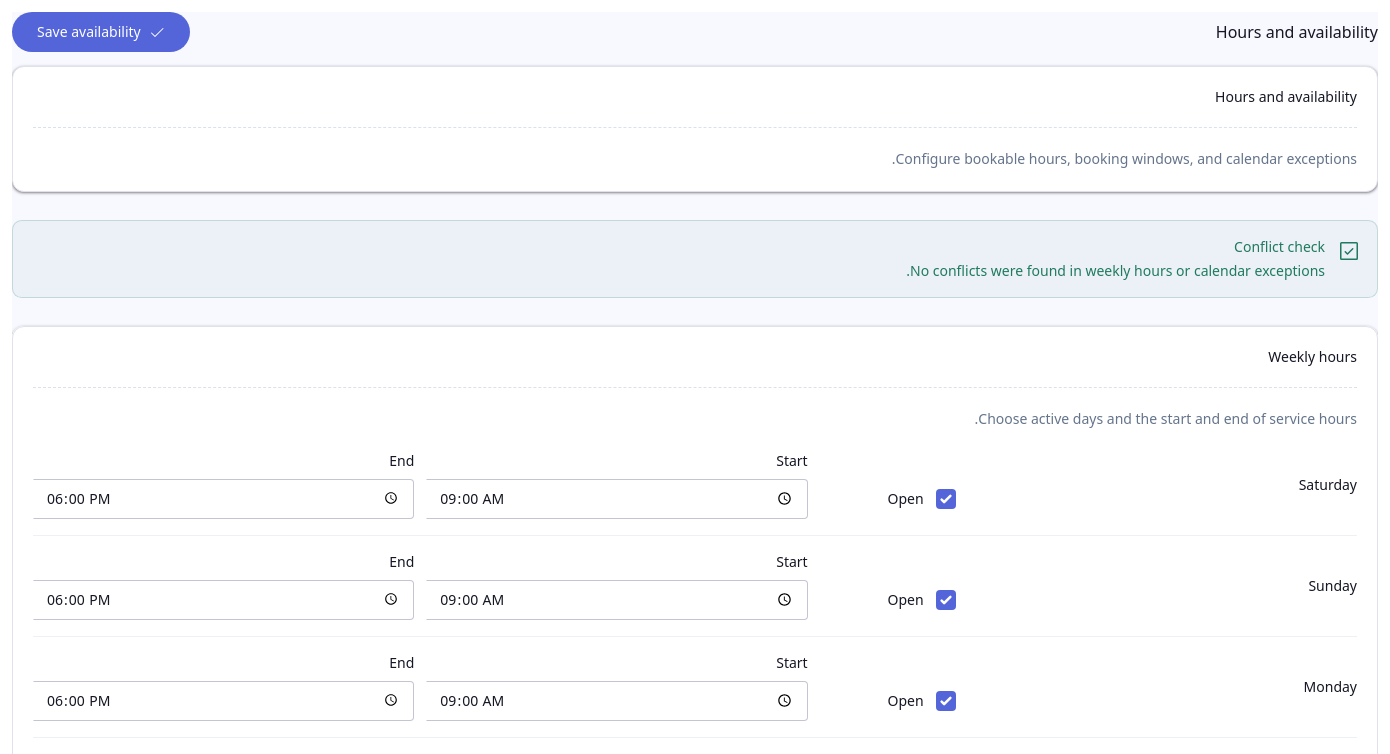
Test: AvailabilityPage › blocks saving on invalid hours and announces a successful save
Expected: the button "Save availability" is enabled, [12, 12, 190, 52]
Replace the text in the time field labelled "Start" in the row of "Saturday" with "18:00" at x=617, y=498, box [426, 478, 808, 518]
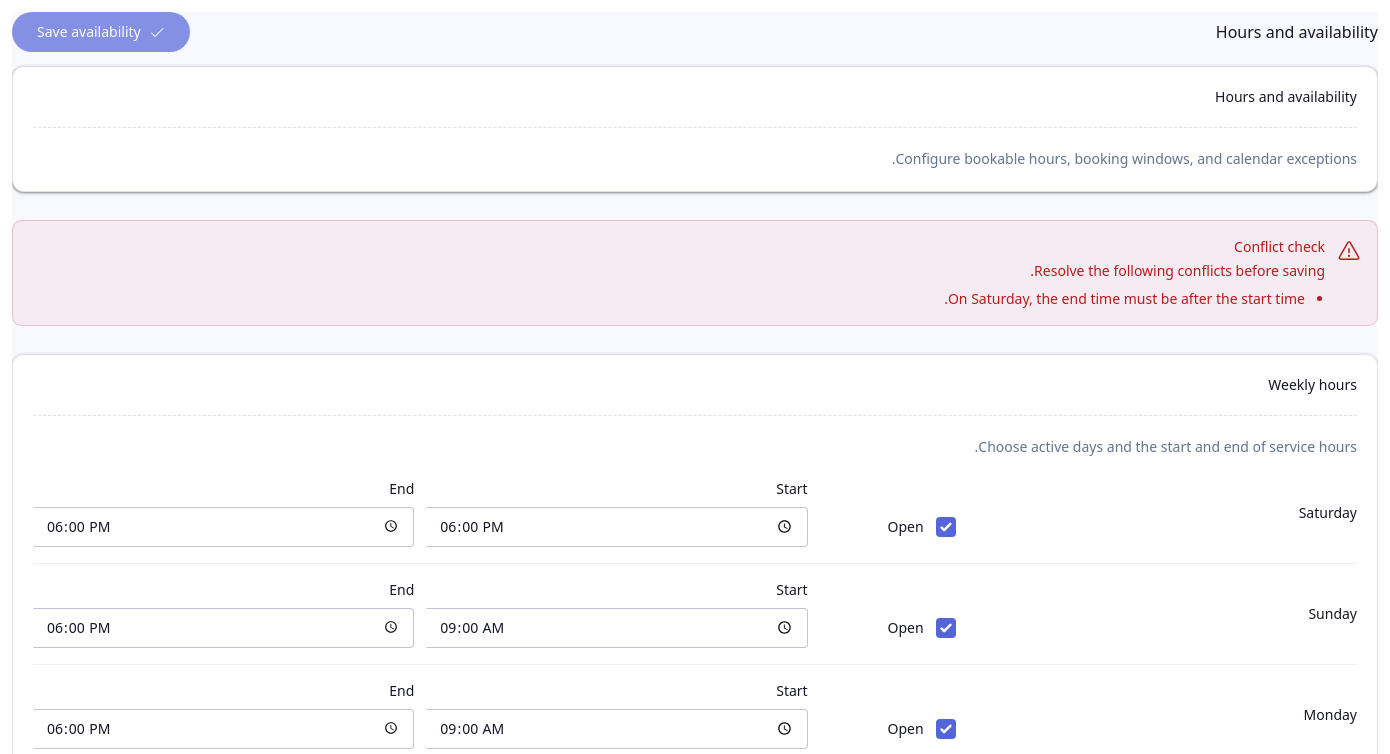
Replace the text in the 1st time field labelled "End" with "09:00" at x=224, y=526, box [33, 506, 414, 546]
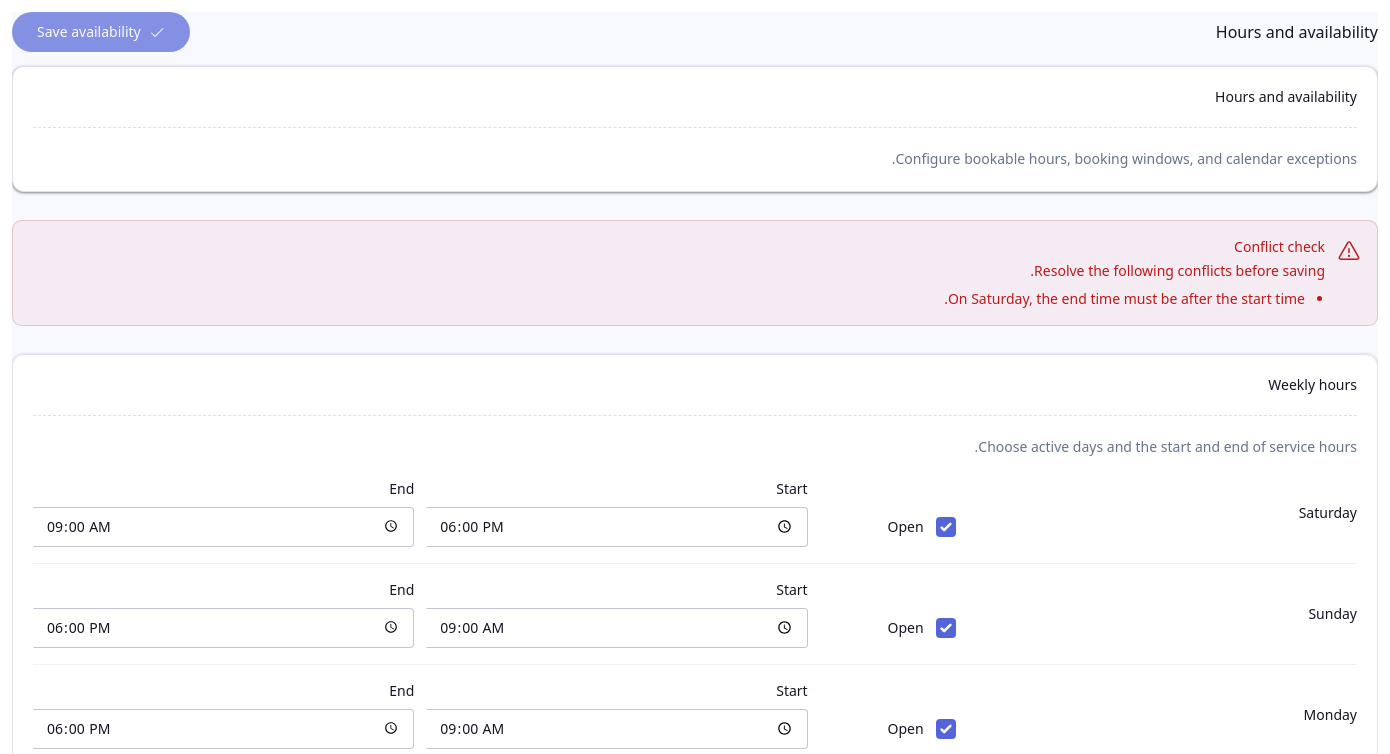
Result: the button "Save availability" is disabled at [12, 12, 190, 52]
Result: the message shows "On Saturday, the end time must be after the start time." at [944, 289, 1305, 308]
Replace the text in the 1st time field labelled "End" with "19:00" at x=224, y=526, box [33, 506, 414, 546]
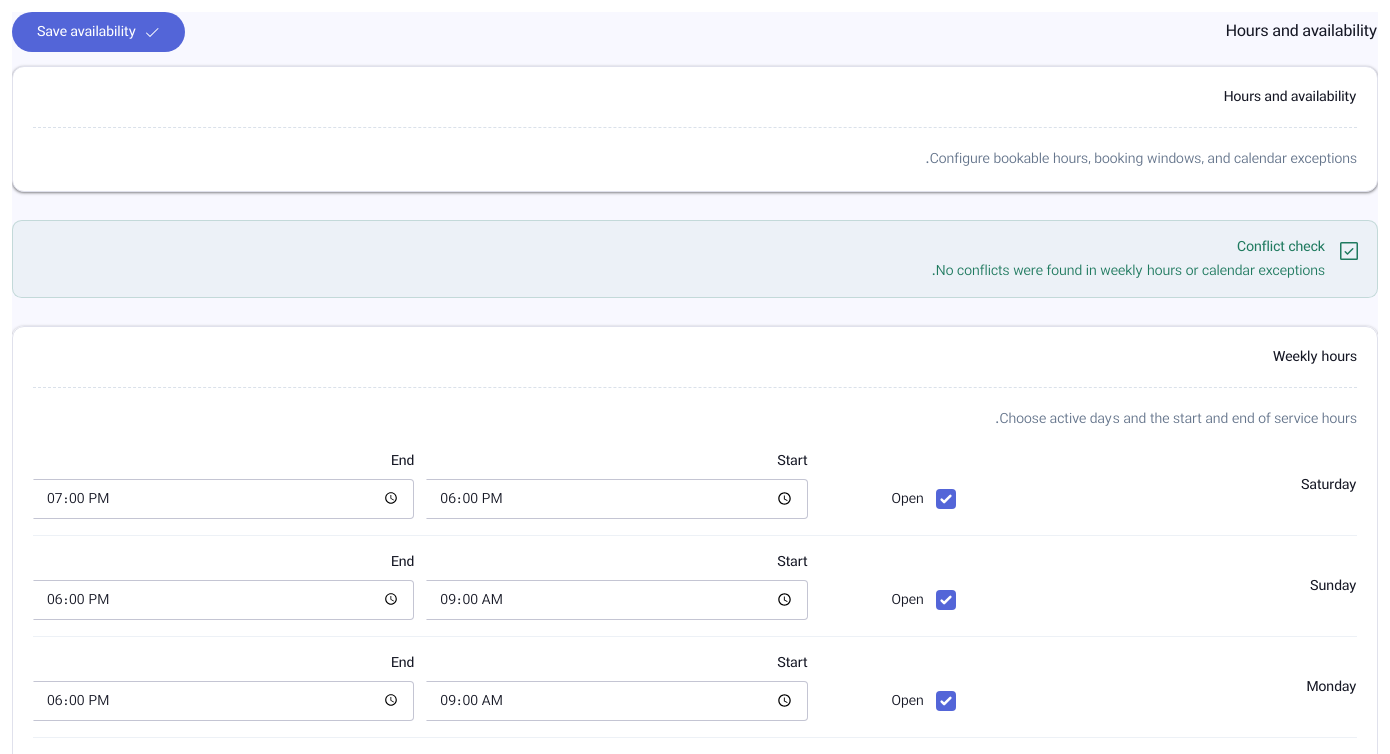
Result: the button "Save availability" is enabled
Click the button "Save availability" at x=99, y=32, box [12, 12, 186, 52]
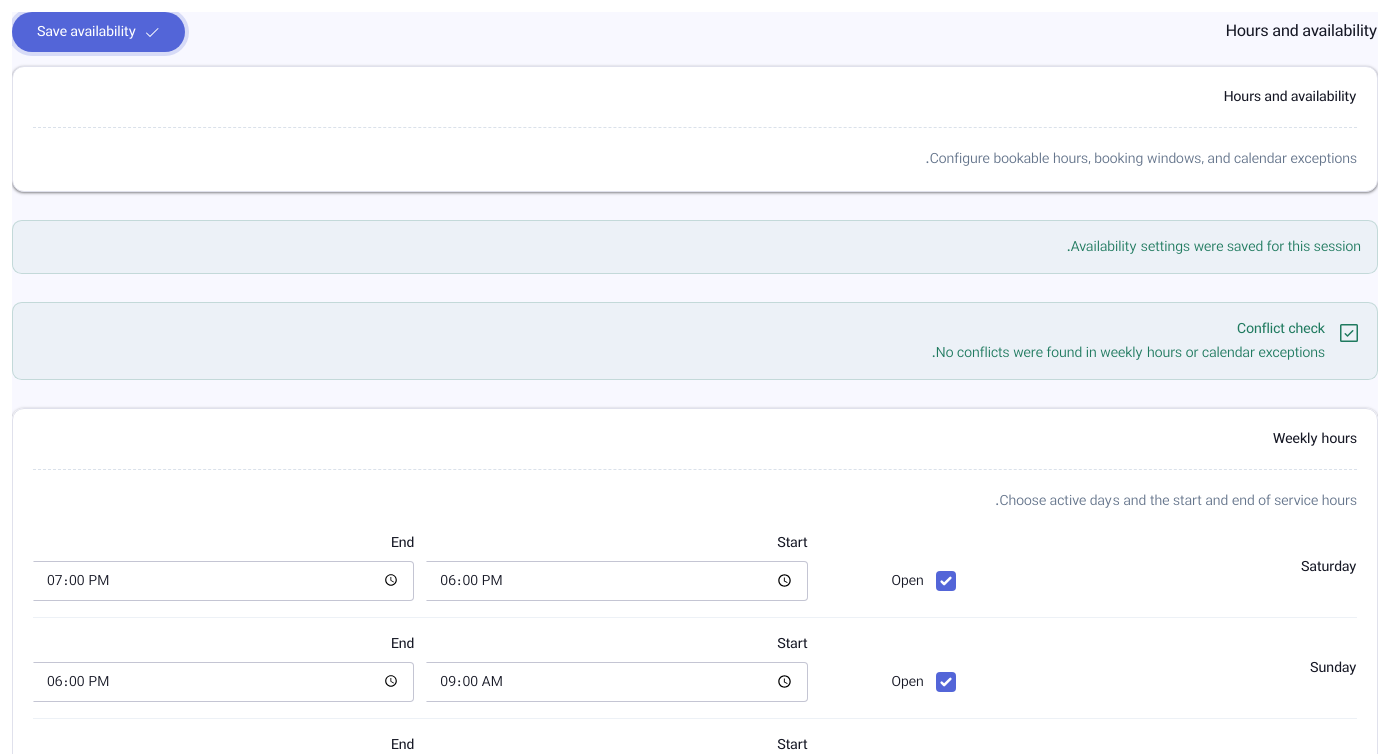
Result: the text "Availability settings were saved for this session." is shown at [12, 220, 1378, 274]
